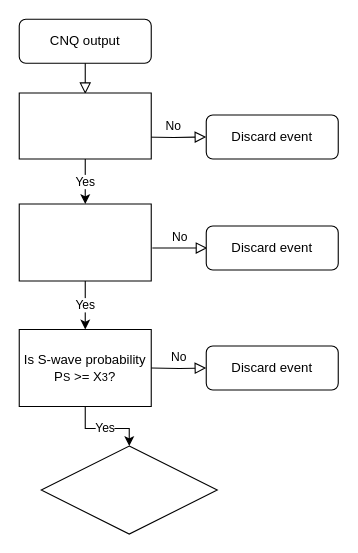
The diagram is 358 pixels wide and 553 high, and some of its shapes have lost their labels. Each missing label, with the centre of its shape:
Calculate T obs: point 128,489
Is detection probability P D >= X 1 ?: point 84,125
Is P-wave probability P P >= X 2 ?: point 84,242
